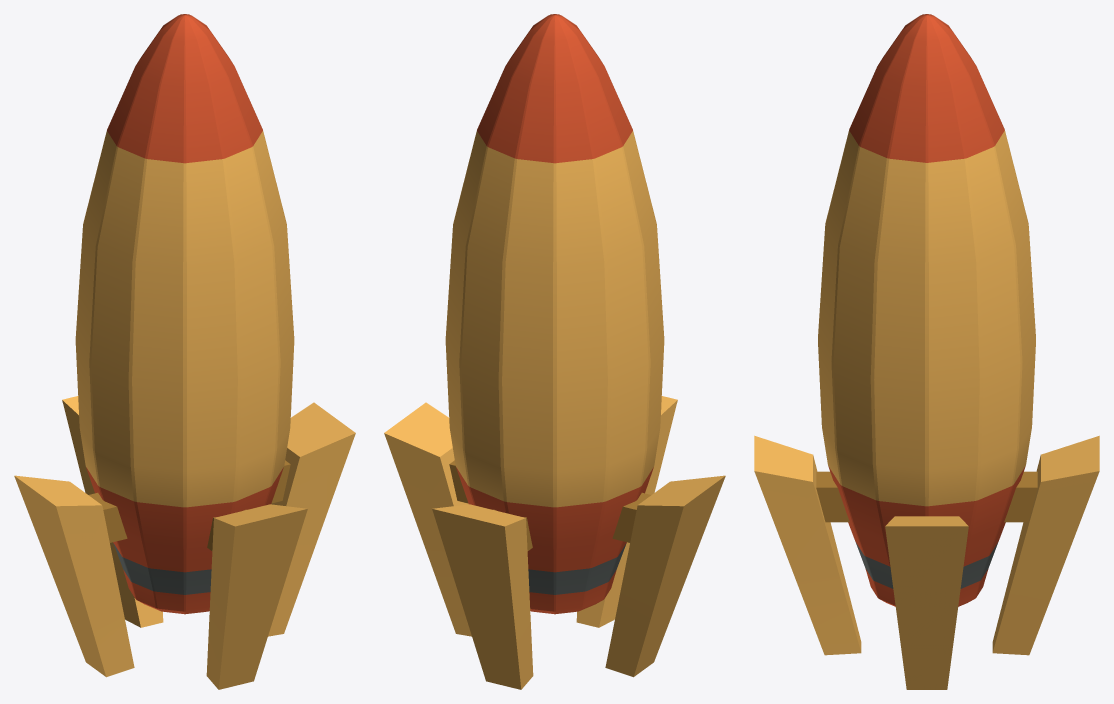
Rendered from rocket_placeholder.fbx.
3 views of the same model, side by side, from view 1: azimuth 30°, elevation 25°; view 2: azimuth 150°, elevation 25°; view 3: azimuth 270°, elevation 25° (orthographic).
Visible parts, largest first — view 1: group4_pCube9; view 2: group4_pCube9; view 3: group4_pCube9.
Part boxes in pixels (box(x1,y1,x2,y2)): group4_pCube9: box(14, 14, 355, 689); group4_pCube9: box(384, 14, 725, 689); group4_pCube9: box(754, 14, 1099, 689).
Size of the model in its own units: 505 by 1021 by 505.
Materials: 1 (1 with a texture image).
